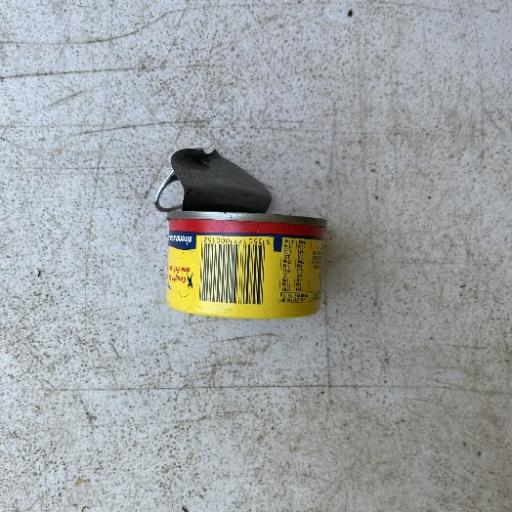Metal: (152, 146, 328, 320)
